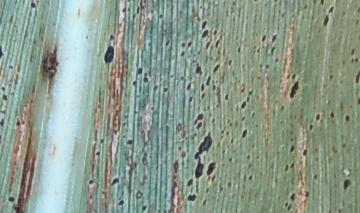tarspot: (195, 131, 212, 177), (103, 45, 115, 63), (289, 82, 299, 99), (193, 111, 204, 124), (206, 161, 216, 175), (342, 179, 352, 191), (194, 62, 203, 74), (288, 190, 297, 202), (204, 74, 212, 86), (186, 194, 197, 202), (14, 117, 22, 128), (322, 14, 329, 26), (110, 178, 120, 186), (212, 40, 221, 48), (259, 33, 267, 42), (200, 198, 208, 207), (270, 45, 276, 57), (241, 128, 248, 138), (314, 112, 321, 122), (176, 143, 183, 153), (1, 94, 9, 102), (136, 67, 144, 75), (186, 95, 194, 103), (187, 178, 194, 187), (201, 29, 208, 38), (212, 63, 219, 72), (307, 123, 314, 132), (141, 203, 147, 213), (135, 6, 141, 16), (355, 70, 360, 82), (30, 1, 37, 9), (8, 195, 16, 202), (125, 138, 133, 145), (7, 63, 15, 70), (117, 198, 124, 206), (108, 33, 115, 41), (141, 76, 149, 83), (164, 39, 171, 47), (185, 82, 192, 90), (344, 114, 351, 122), (288, 144, 295, 152), (302, 148, 309, 156), (312, 172, 319, 180), (241, 101, 248, 109), (247, 88, 254, 96), (235, 45, 242, 53), (328, 5, 334, 14), (227, 58, 233, 67), (1, 46, 5, 59), (202, 18, 207, 28), (330, 109, 335, 119), (131, 79, 138, 86), (211, 28, 218, 35), (264, 62, 271, 69), (279, 104, 286, 111), (1, 108, 7, 116), (97, 138, 105, 144), (180, 40, 186, 48), (224, 92, 230, 100), (303, 191, 311, 197), (247, 174, 255, 180), (87, 180, 96, 185), (284, 163, 289, 172), (1, 84, 7, 91), (180, 50, 186, 57), (200, 93, 207, 99), (196, 122, 202, 129), (289, 161, 295, 168), (227, 156, 234, 162), (250, 111, 256, 118), (328, 73, 334, 80), (169, 73, 175, 80), (200, 83, 205, 91), (272, 33, 277, 41), (351, 47, 356, 55), (356, 96, 360, 106), (292, 72, 297, 80), (246, 151, 251, 159), (1, 118, 5, 127), (95, 150, 101, 156), (163, 87, 169, 93), (153, 83, 157, 92), (158, 13, 164, 19), (220, 128, 226, 134), (187, 41, 192, 48), (227, 180, 232, 187), (206, 41, 211, 47), (355, 56, 360, 62), (284, 201, 288, 208), (230, 137, 234, 144), (241, 114, 245, 121), (122, 7, 127, 12), (320, 1, 325, 6), (288, 205, 293, 210), (225, 130, 230, 135), (211, 118, 216, 123), (342, 143, 347, 148), (356, 8, 360, 14), (273, 1, 279, 3), (254, 1, 259, 3)
